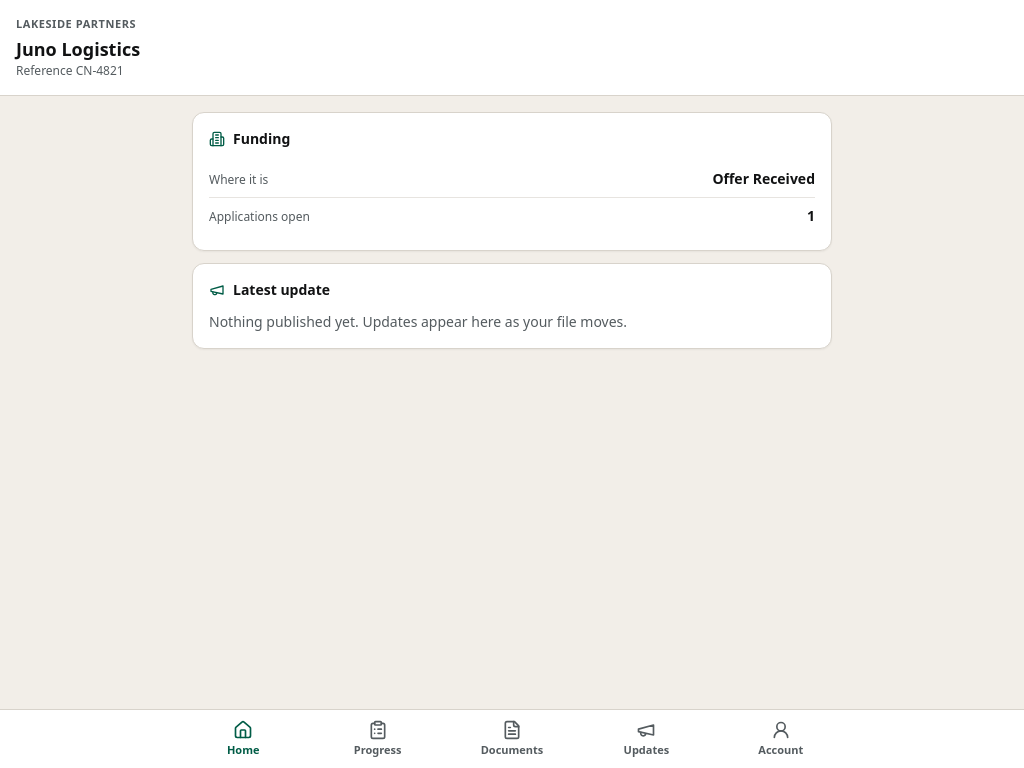
Test case: moving around on a phone › loads a section only when it is opened
This screenshot has width=1024, height=768.
Expected: the text "Bank statement" is not shown
Click the button "Documents".
click(512, 739)  # box [445, 710, 579, 767]
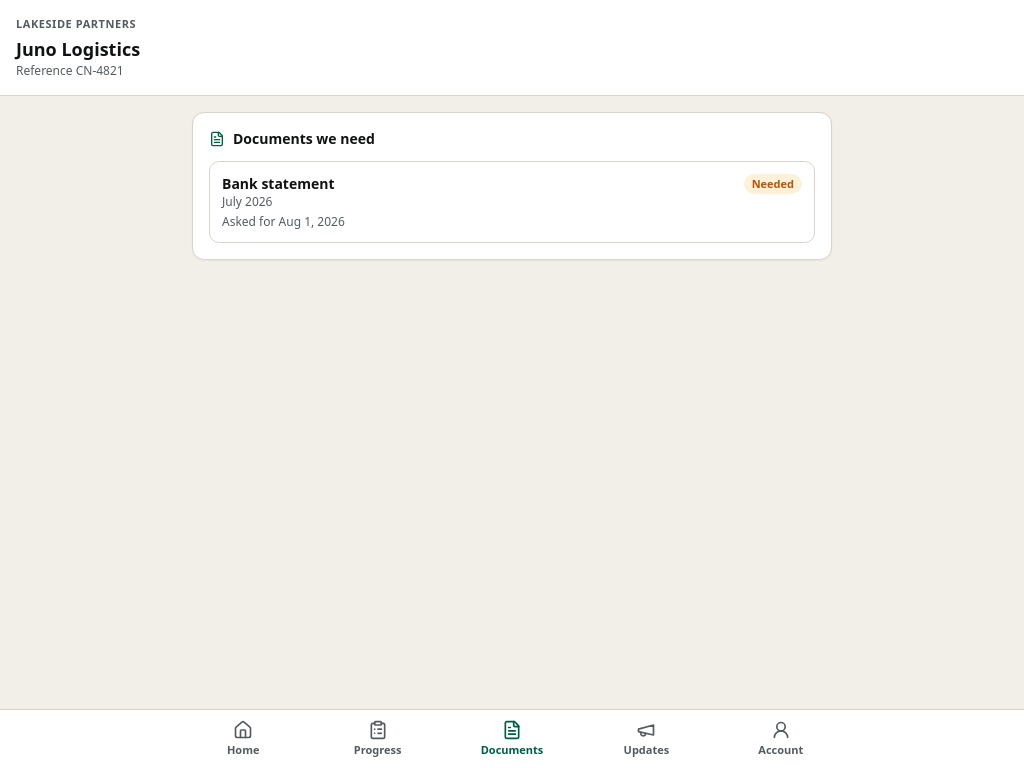
Expected: the text "Bank statement" is shown, [222, 174, 334, 194]
Expected: the text "Needed" is shown, [744, 174, 802, 194]
